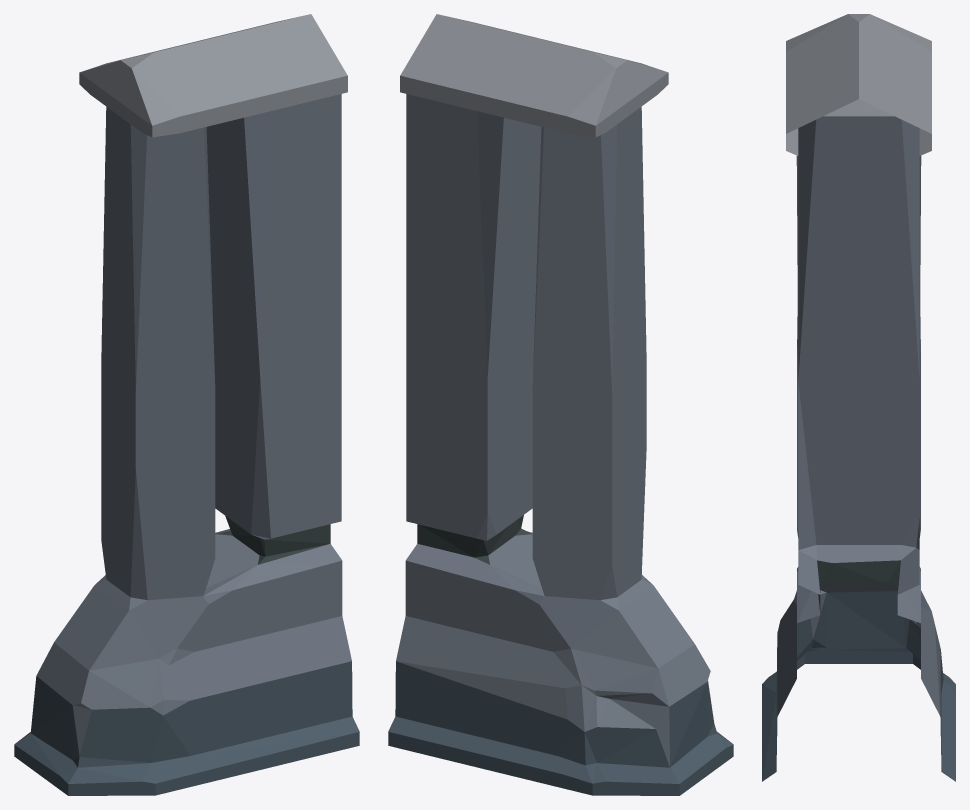
The model's file is End3.fbx.
The picture shows the model from 3 angles, left to right: view 1: azimuth 30°, elevation 25°; view 2: azimuth 150°, elevation 25°; view 3: azimuth 270°, elevation 25°; orthographic projection.
Visible parts, largest first — view 1: End3; view 2: End3; view 3: End3.
Part boxes in pixels (x1,y1,x2,y2): End3: (14,14,359,795); End3: (388,14,733,795); End3: (762,14,955,781).
Size of the model in its own units: 193 by 476 by 120.
